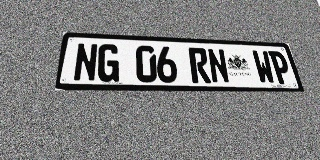0: (136, 45, 157, 82)
6: (156, 46, 178, 83)
G: (96, 44, 120, 82)
N: (73, 43, 98, 82), (207, 48, 230, 83)
P: (268, 51, 293, 84)
R: (188, 47, 211, 83)
W: (251, 50, 276, 84)
